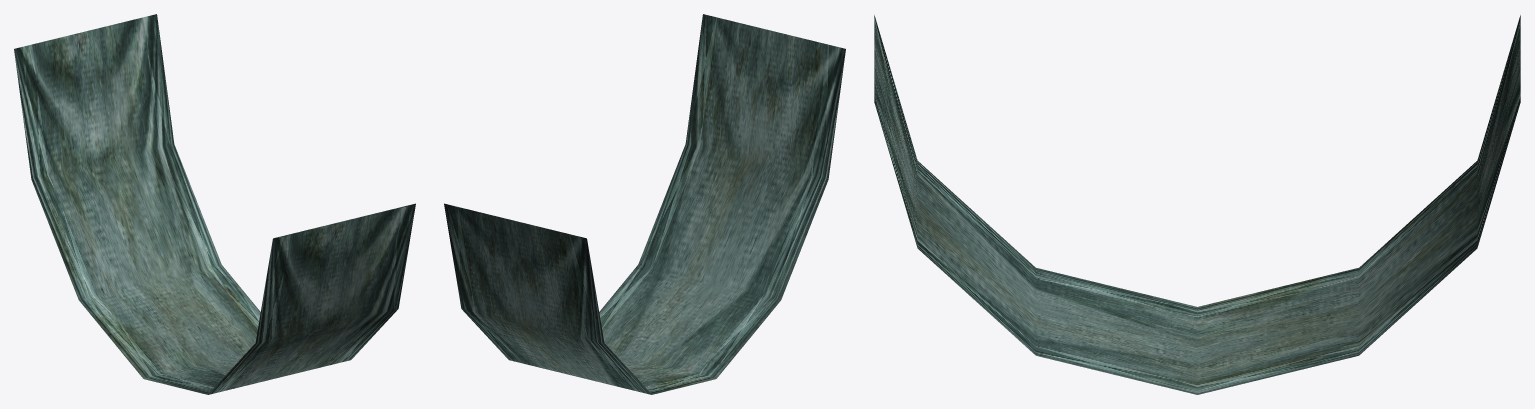
The model's file is Cloth02_Parts_LostTemple_002.FBX.
3 renders of one model, left to right at view 1: azimuth 30°, elevation 25°; view 2: azimuth 150°, elevation 25°; view 3: azimuth 270°, elevation 25°, orthographic. The views are drawn at different scales.
Visible parts, largest first — view 1: Cloth02_Parts_LostTemple_002; view 2: Cloth02_Parts_LostTemple_002; view 3: Cloth02_Parts_LostTemple_002.
Boxes of the visible parts, <box> form: Cloth02_Parts_LostTemple_002: <box>14,14,415,394</box>; Cloth02_Parts_LostTemple_002: <box>444,14,845,394</box>; Cloth02_Parts_LostTemple_002: <box>874,15,1520,394</box>.
Size of the model in its own units: 44.64 by 70.22 by 140.
Materials: 1 (1 with a texture image).
